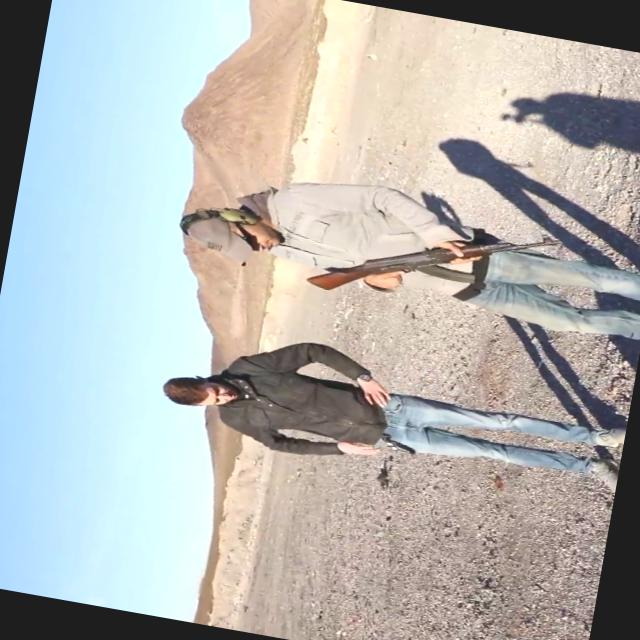long weapon: (294, 177, 568, 331)
